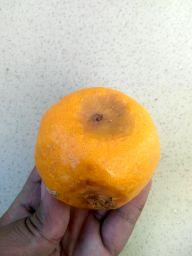Unripe: (35, 88, 159, 209)
